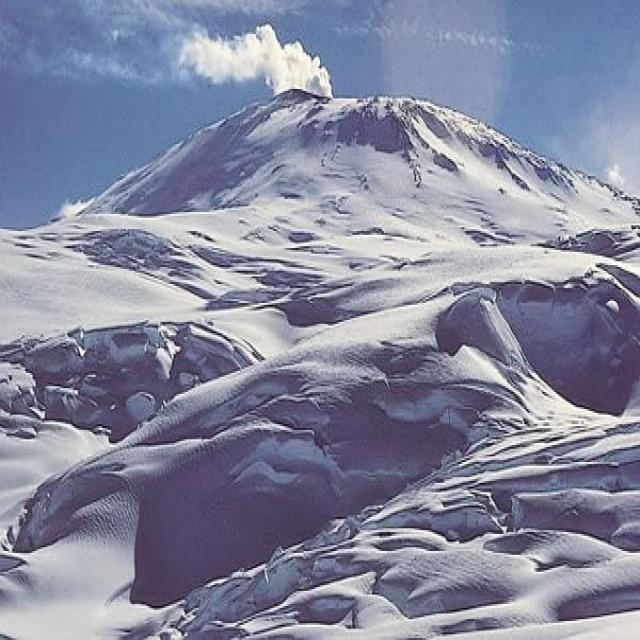smoke: (172, 21, 333, 100)
